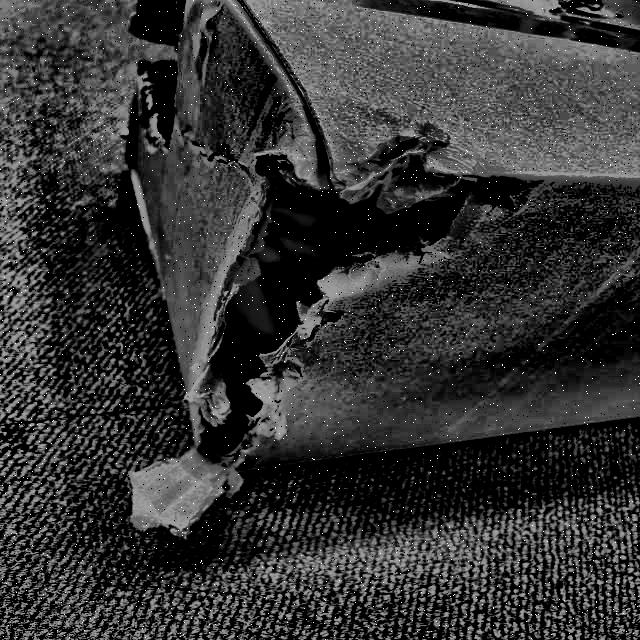box: (99, 0, 640, 508)
hole: (198, 169, 468, 463), (114, 3, 207, 152)
